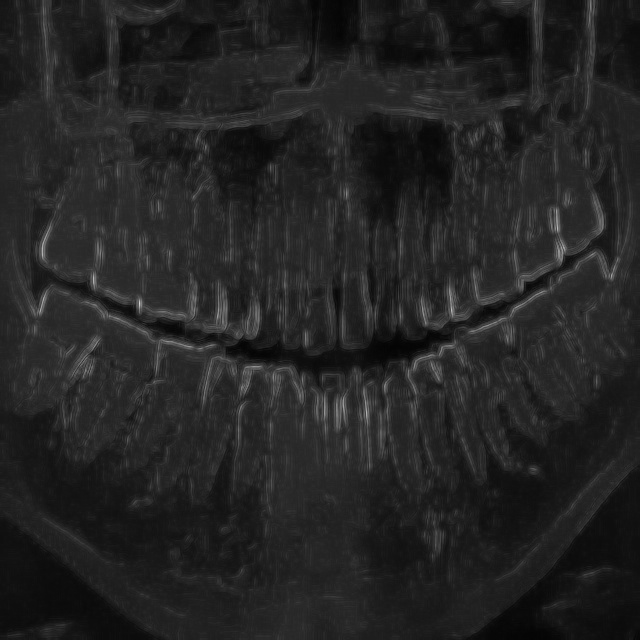cavity: (10, 212, 212, 534), (455, 208, 630, 478), (249, 173, 429, 349)
